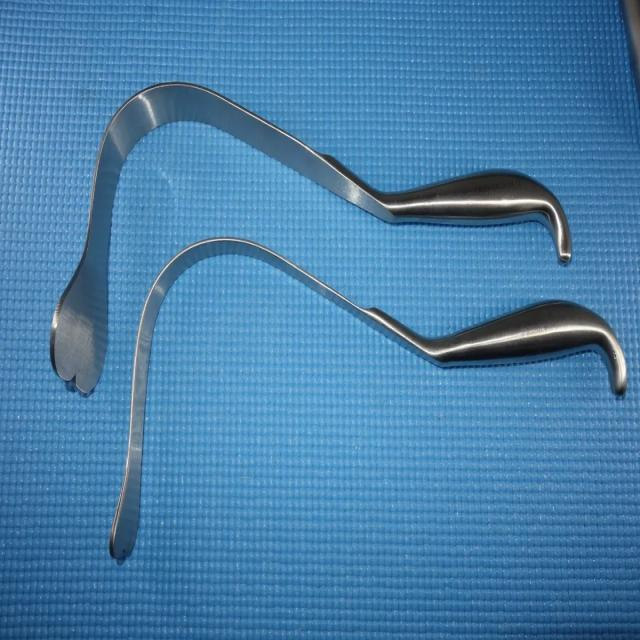Hrrington retractor: (42, 34, 582, 383), (108, 238, 632, 562)
